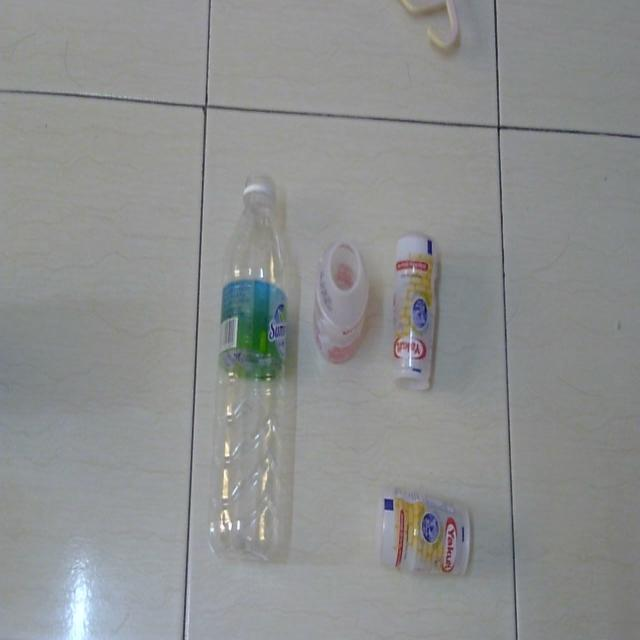plastic_laydown_0rotation: (374, 478, 478, 591)
plastic_laydown_90rotation: (211, 156, 300, 569), (391, 233, 442, 389)
plastic_standrotation: (310, 235, 369, 371)
